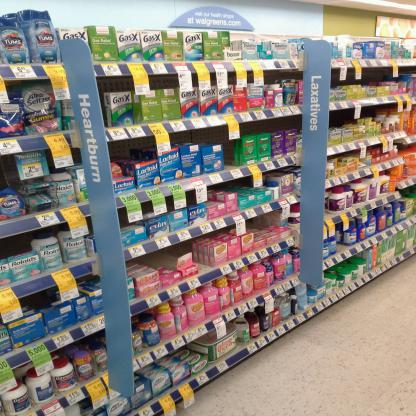Void: (113, 142, 143, 159), (223, 143, 239, 167), (249, 218, 269, 226)
